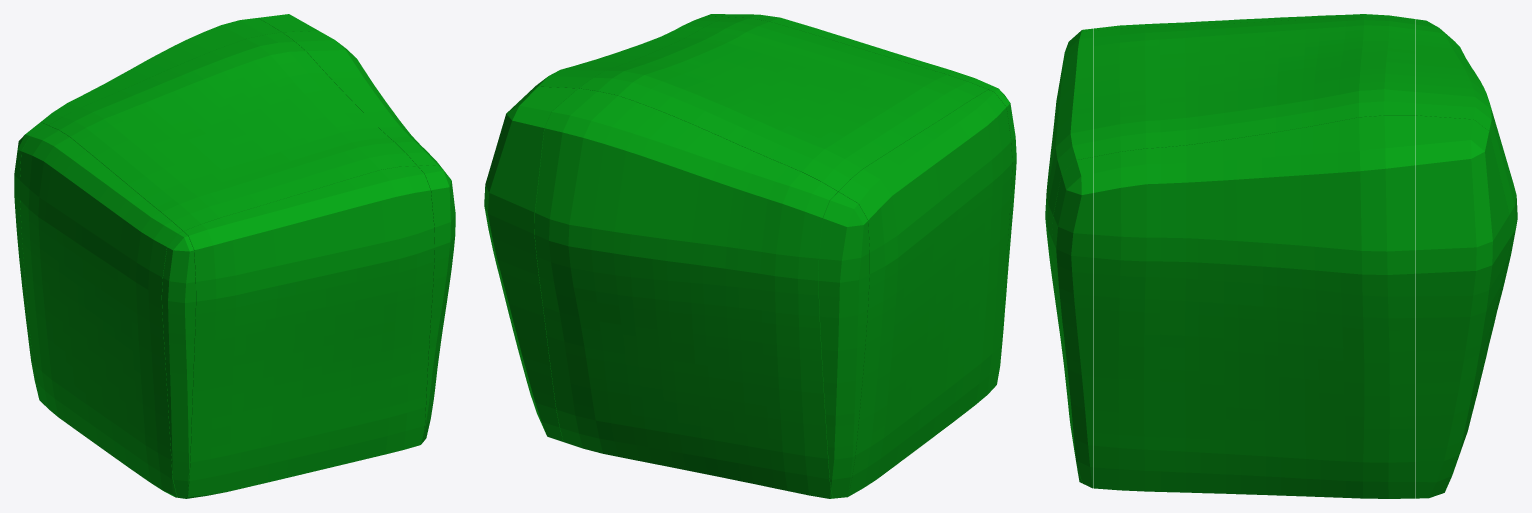
The model's file is 4by10beveledsubdivided.006.fbx.
3 renders of one model, left to right at view 1: azimuth 30°, elevation 25°; view 2: azimuth 150°, elevation 25°; view 3: azimuth 270°, elevation 25°, orthographic. The views are drawn at different scales.
Parts seen in each view (by area): view 1: 4by10beveledsubdivided.006; view 2: 4by10beveledsubdivided.006; view 3: 4by10beveledsubdivided.006.
Part boxes in pixels (bbox=[...]): 4by10beveledsubdivided.006: bbox=[14, 14, 455, 498]; 4by10beveledsubdivided.006: bbox=[484, 14, 1016, 498]; 4by10beveledsubdivided.006: bbox=[1045, 14, 1517, 498].
Size of the model in its own units: 285 by 256 by 294.
